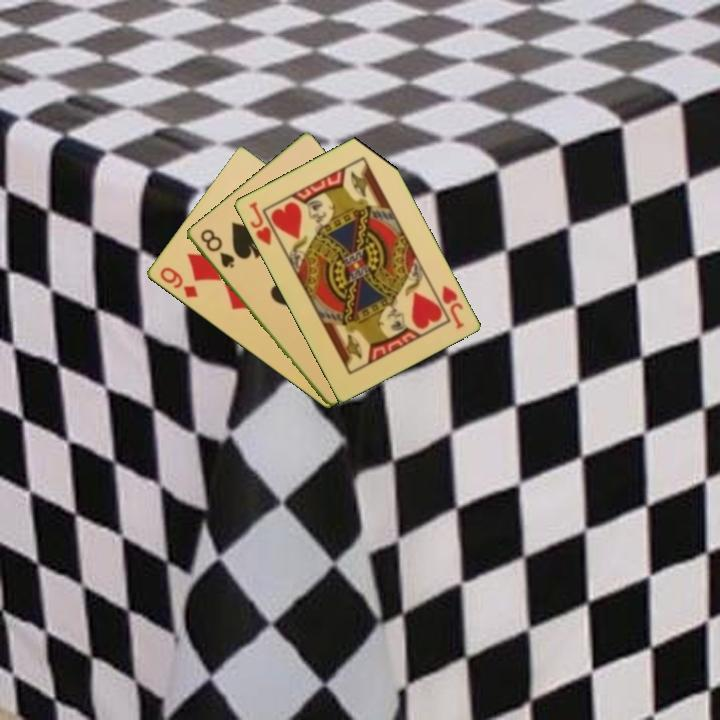8s: (196, 225, 237, 271)
9d: (156, 263, 201, 301)
Jh: (245, 198, 283, 248), (438, 282, 467, 332)
